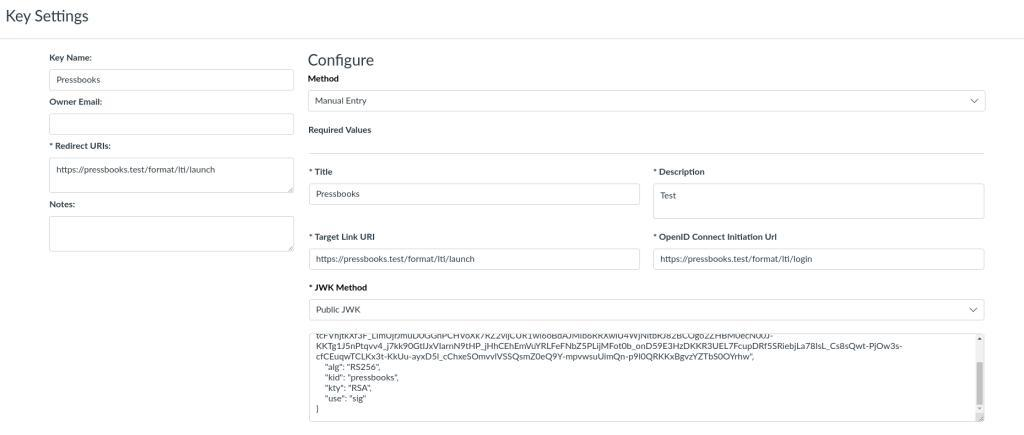dropdown: (310, 91, 986, 112), (310, 301, 986, 321)
input: (654, 250, 986, 271), (310, 184, 640, 205), (310, 250, 641, 270), (50, 70, 295, 91), (50, 114, 294, 135)
label: (653, 230, 779, 244), (6, 9, 92, 27), (307, 52, 377, 70), (307, 124, 375, 138), (309, 232, 378, 244), (50, 141, 114, 153), (310, 283, 370, 294), (653, 167, 708, 178), (49, 98, 104, 108), (49, 53, 94, 65), (307, 73, 342, 86), (309, 166, 336, 179), (49, 200, 78, 211)
